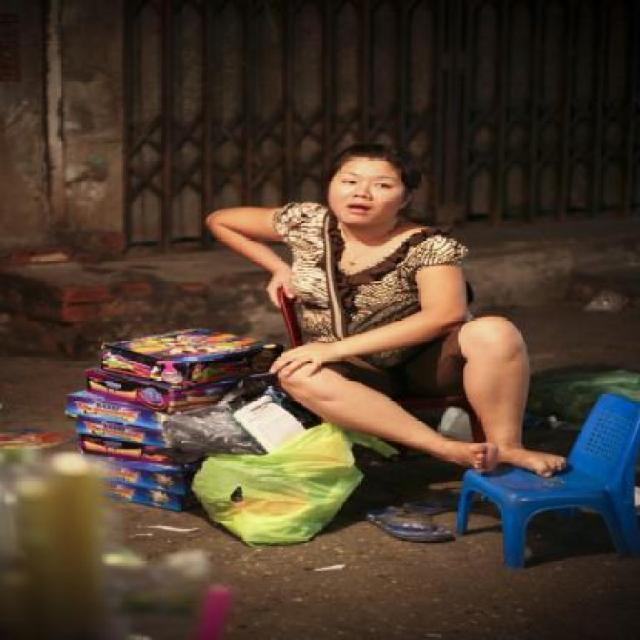plastic bag: (191, 422, 398, 548)
